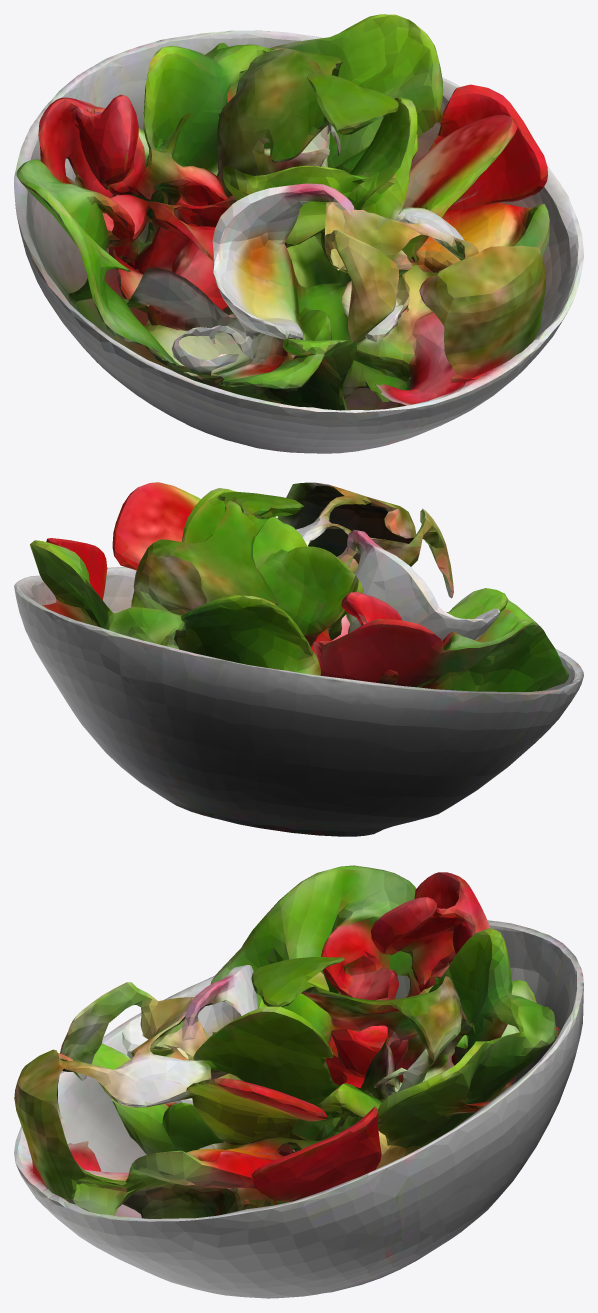
File: salad.glb
3 renders of one model, top to bottom at view 1: azimuth 30°, elevation 25°; view 2: azimuth 150°, elevation 25°; view 3: azimuth 270°, elevation 25°, orthographic. The views are drawn at different scales.
Parts seen in each view (by area): view 1: Salad; view 2: Salad; view 3: Salad.
Part boxes in pixels (x1,y1,x2,y2): Salad: (14, 14, 583, 453); Salad: (14, 482, 583, 836); Salad: (14, 865, 583, 1298).
Size of the model in its own units: 0.7064 by 0.4308 by 0.6733.
1 material, 1 textured.
